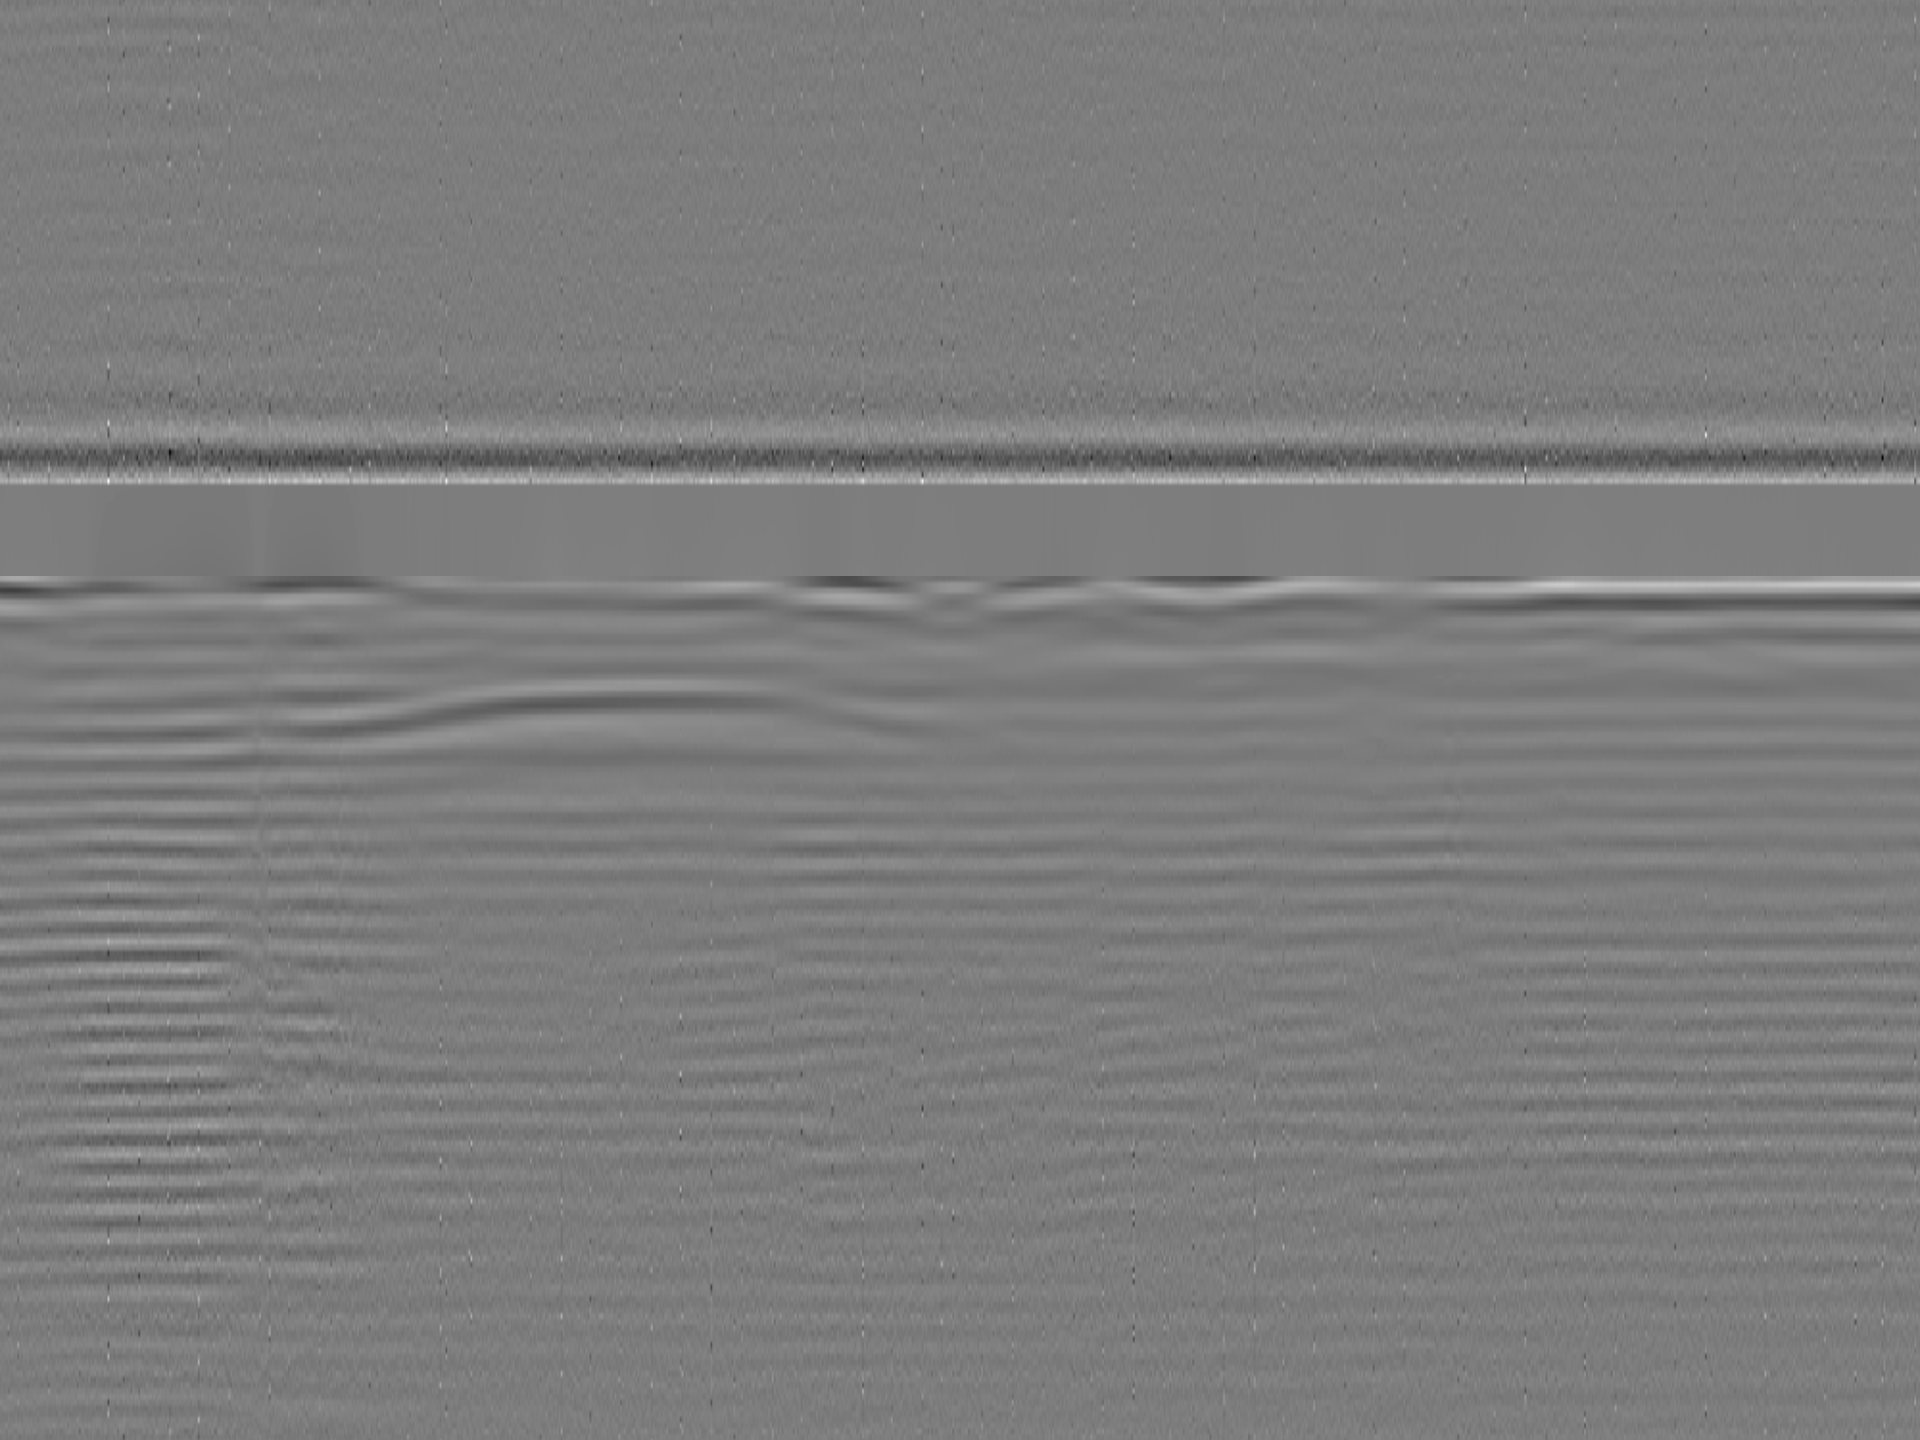Tunnel: (284, 676, 965, 752)
